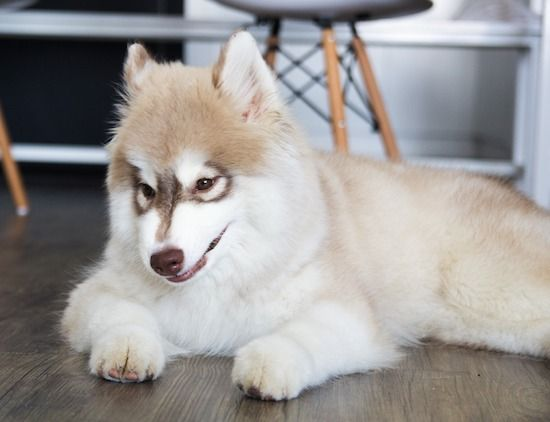husky: (75, 24, 373, 390)
